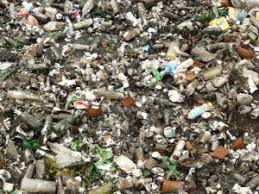garbage: (4, 1, 259, 193)
